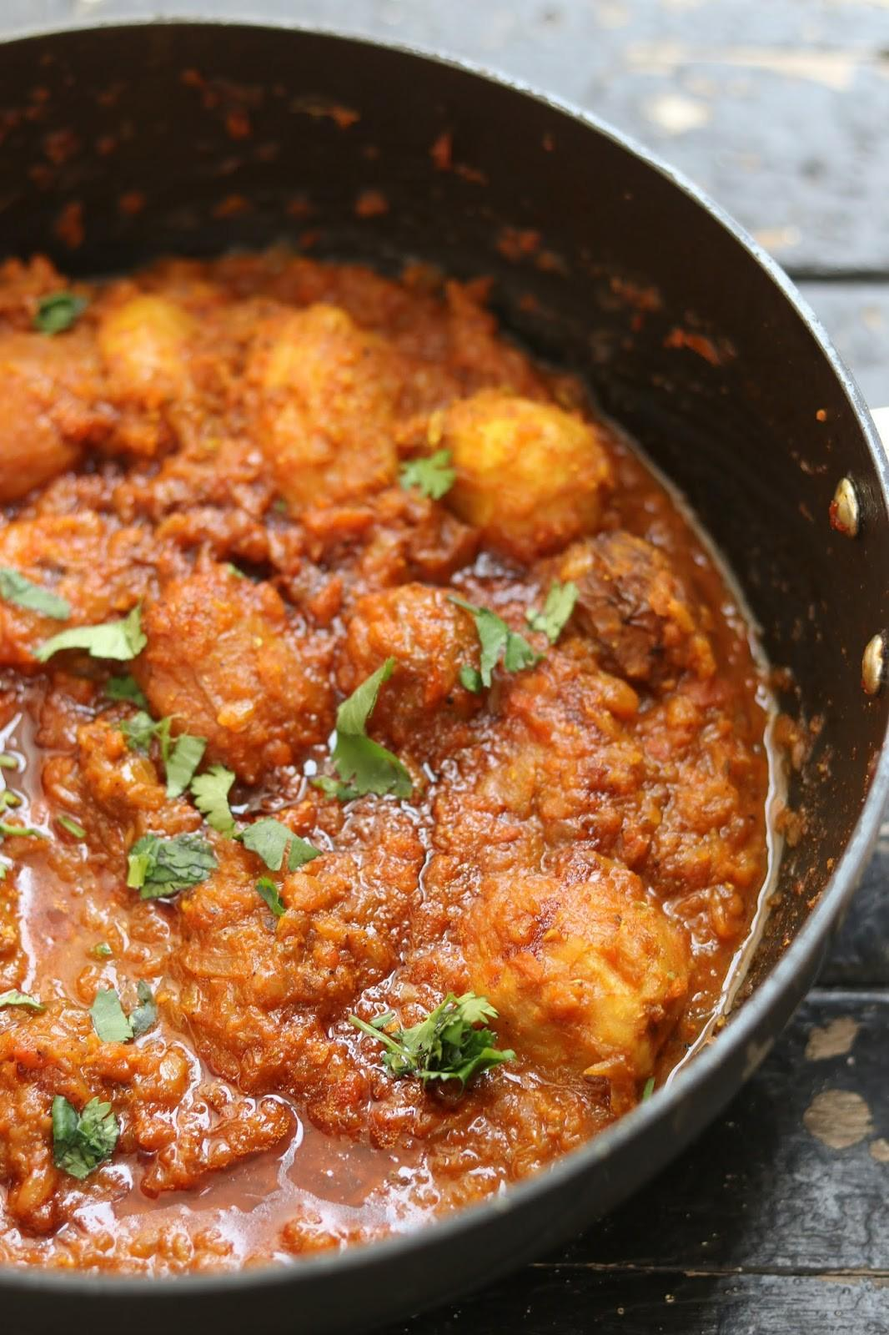DumAloo: (0, 226, 791, 1283)
